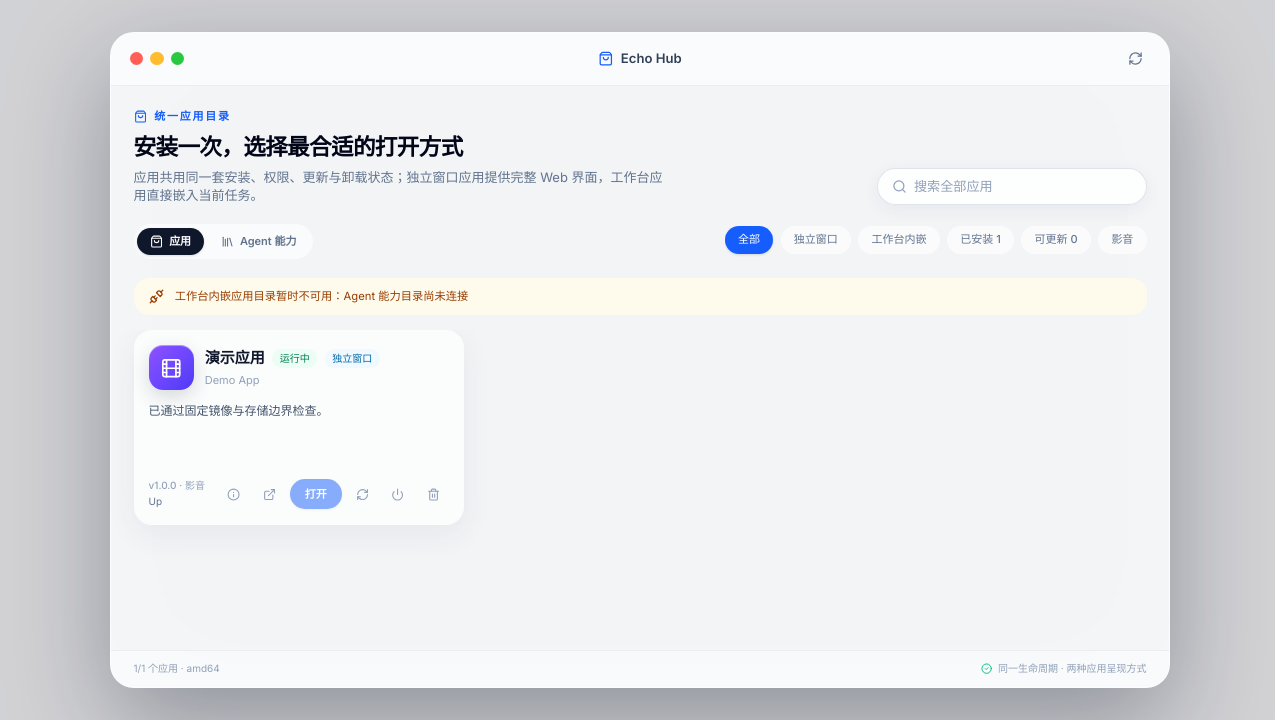
it: Echo Hub panel › shows sanitized post-install health and aggregate resources
Click the button named "查看 演示应用 详情": (234, 494) [218,479,248,509]
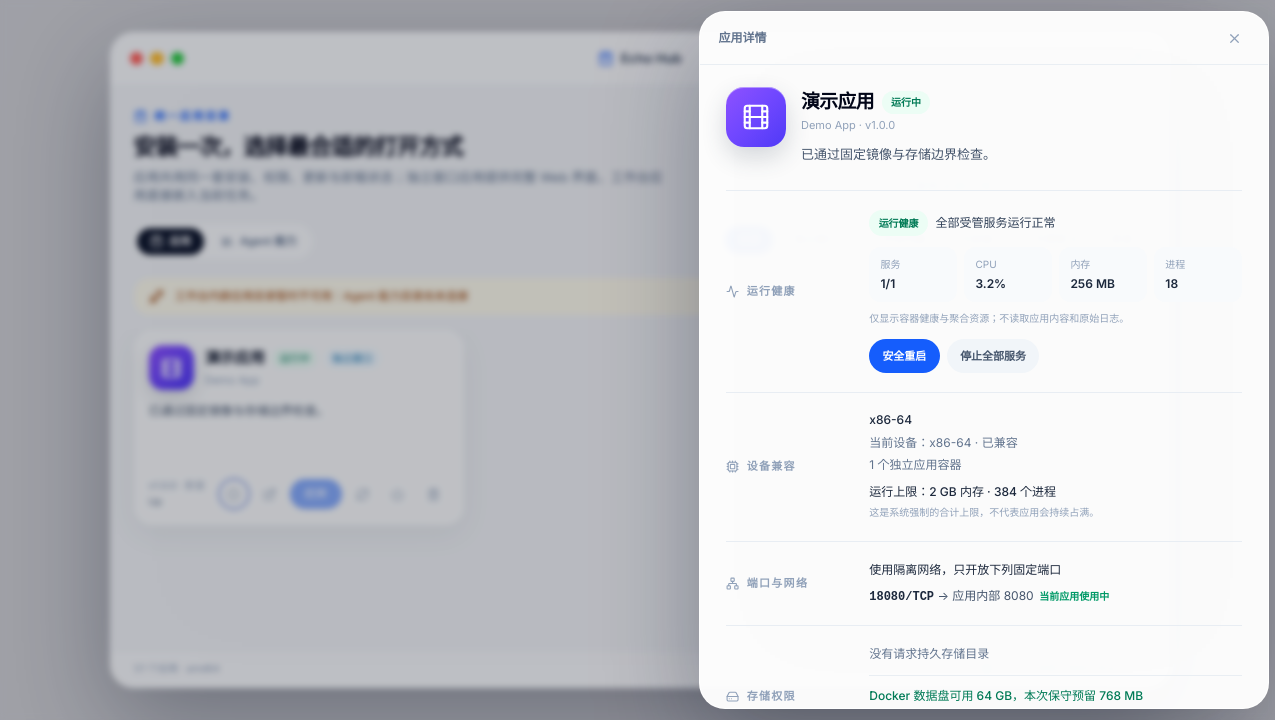
Result: the dialog named "演示应用 应用详情" shows "运行健康" at [747,284,796,298]
Result: the dialog named "演示应用 应用详情" shows "全部受管服务运行正常" at [936,214,1056,230]
Result: the dialog named "演示应用 应用详情" shows "3.2%" at [975,276,1006,291]
